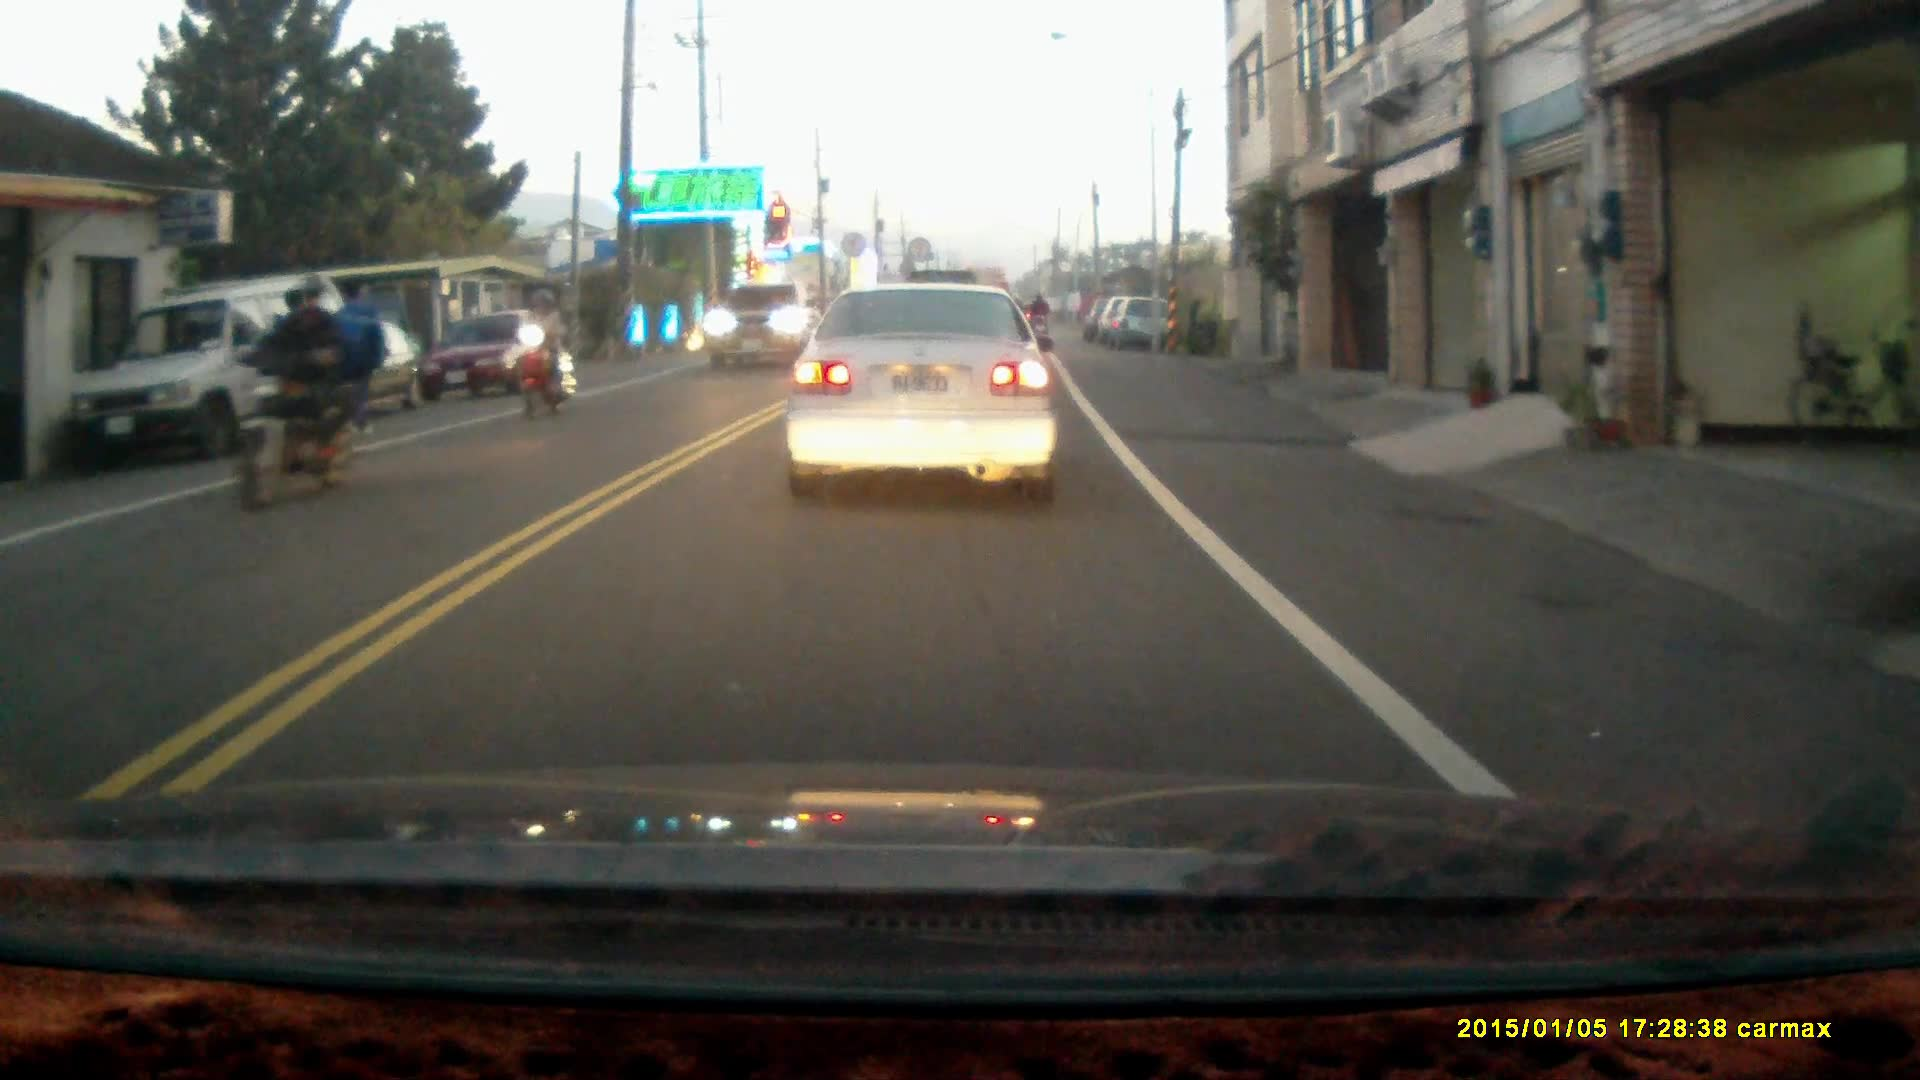pedestrian: (330, 274, 382, 439)
rider: (224, 266, 385, 512), (513, 287, 579, 418)
vehicle: (785, 279, 1062, 507), (58, 275, 345, 466), (230, 311, 433, 420), (420, 311, 580, 414), (702, 276, 811, 370), (1108, 298, 1180, 355)
